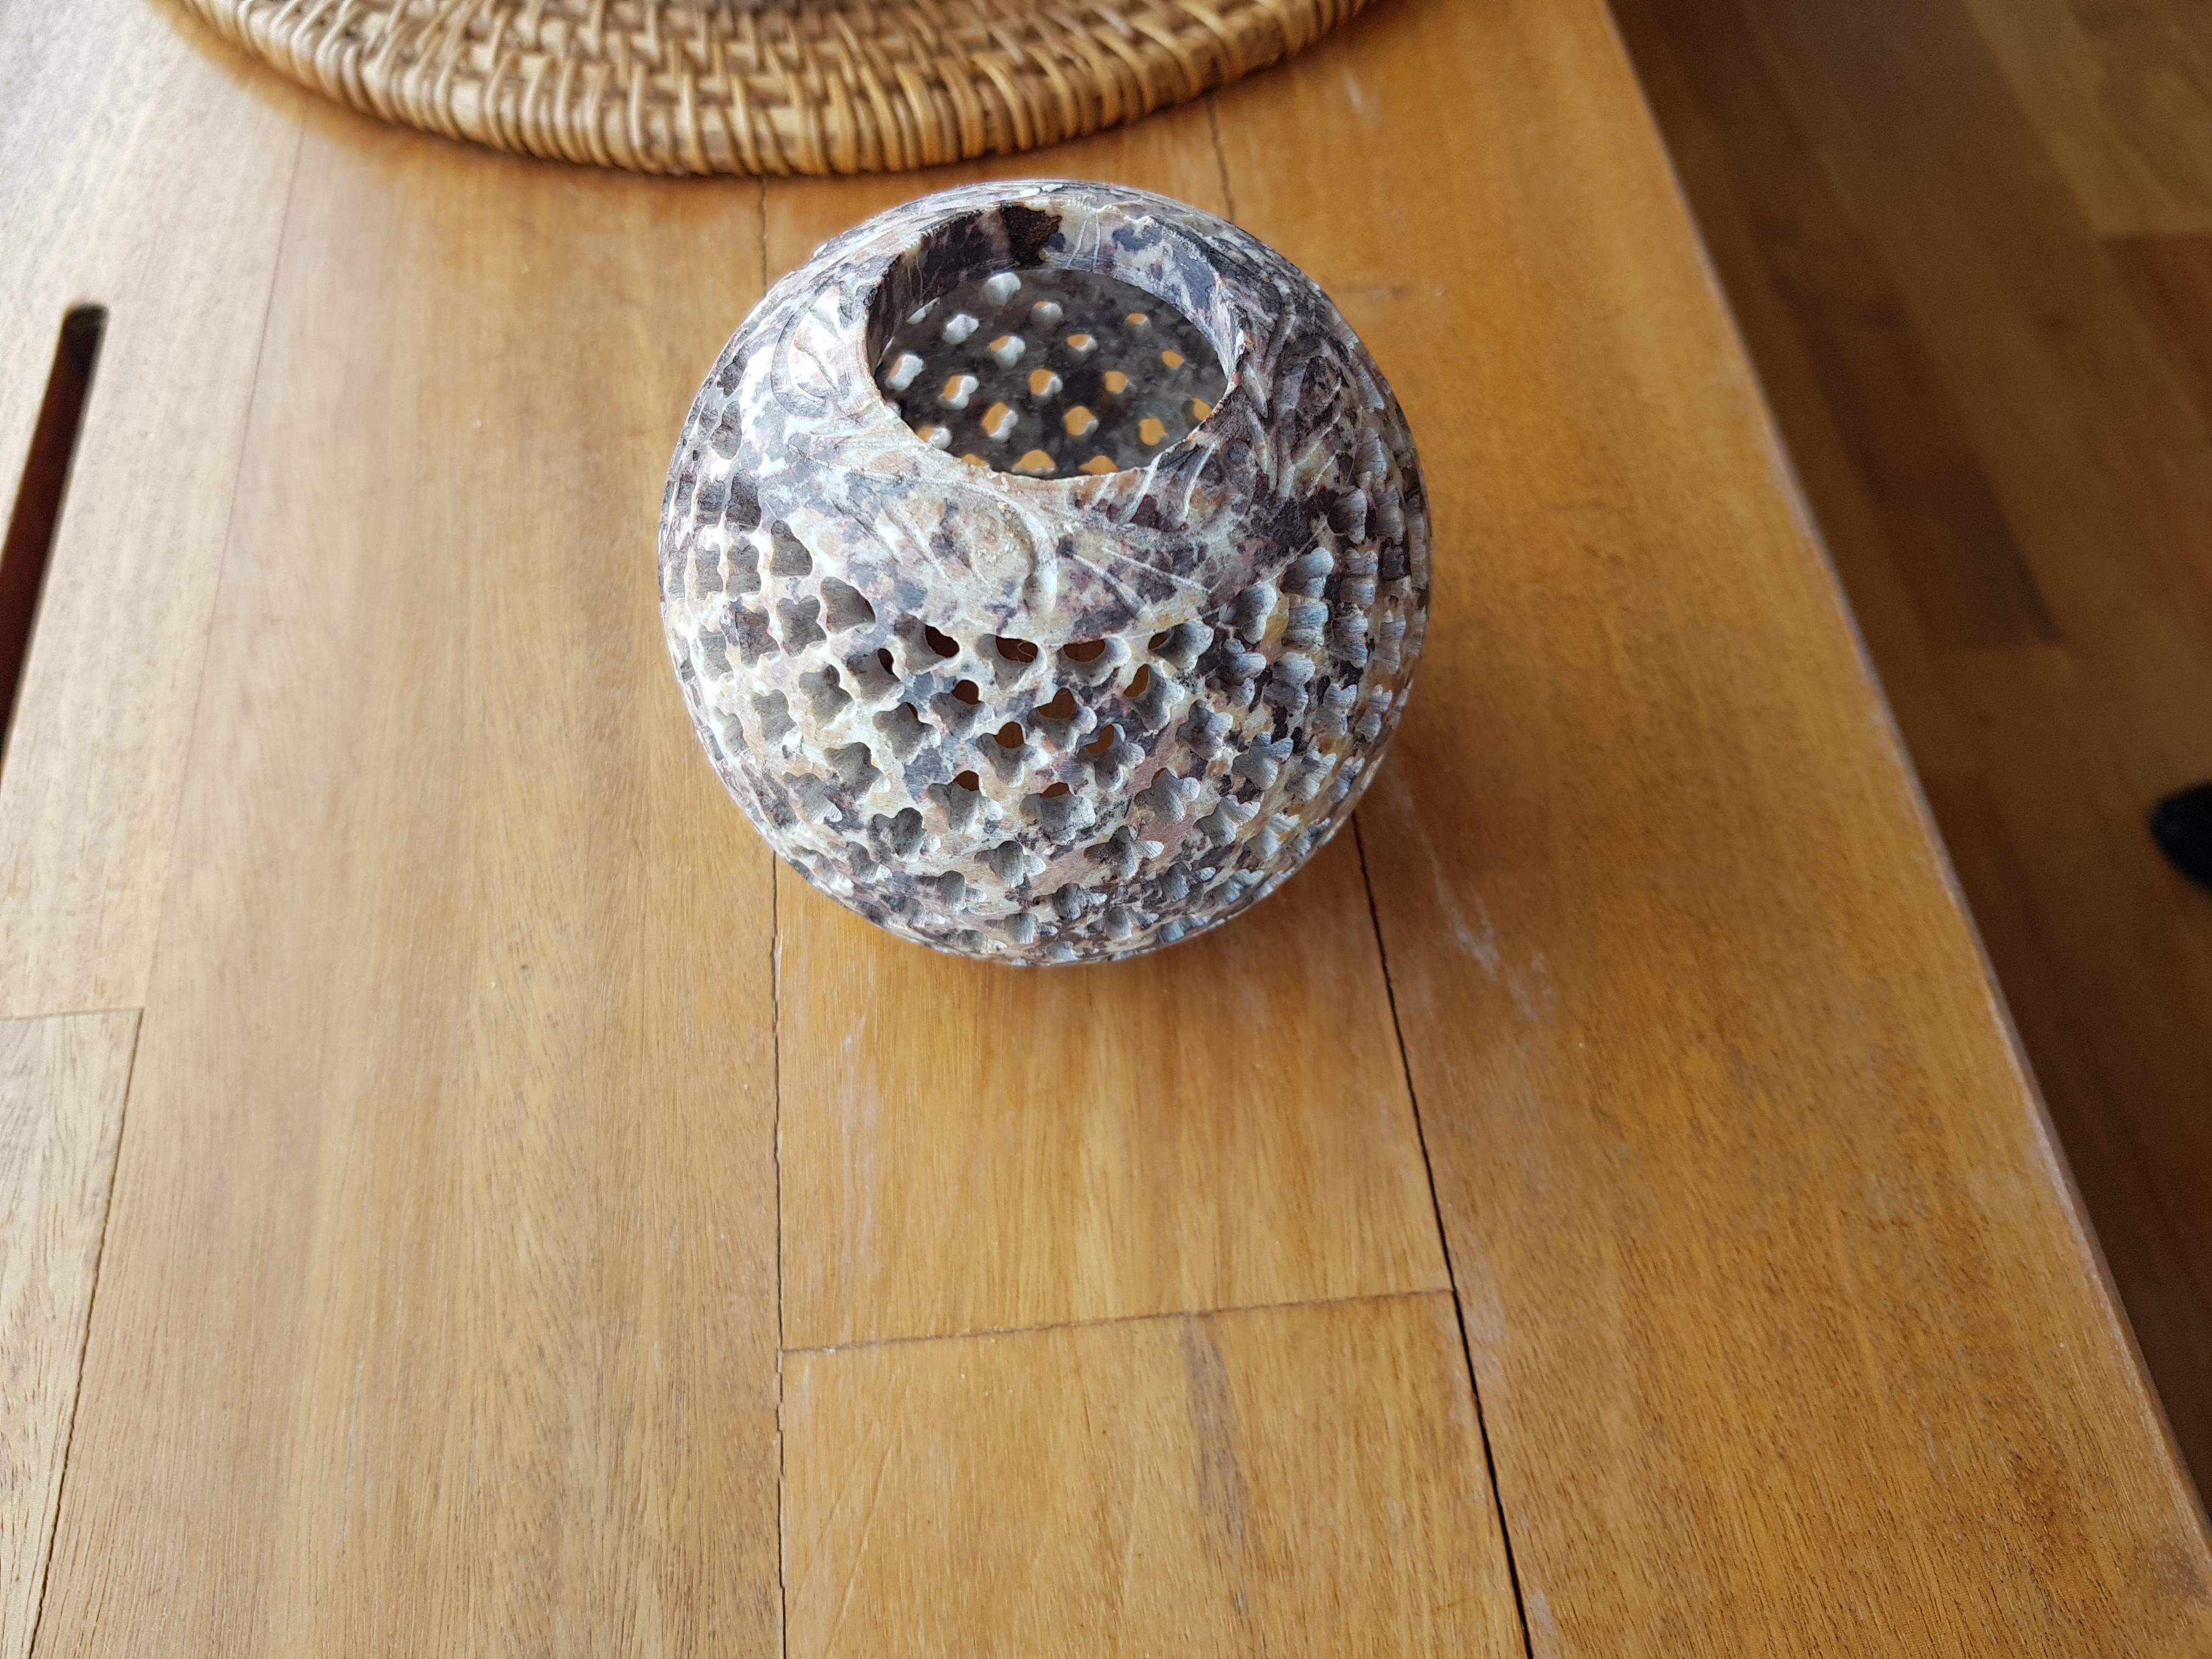Sphere: (653, 173, 1433, 962)
